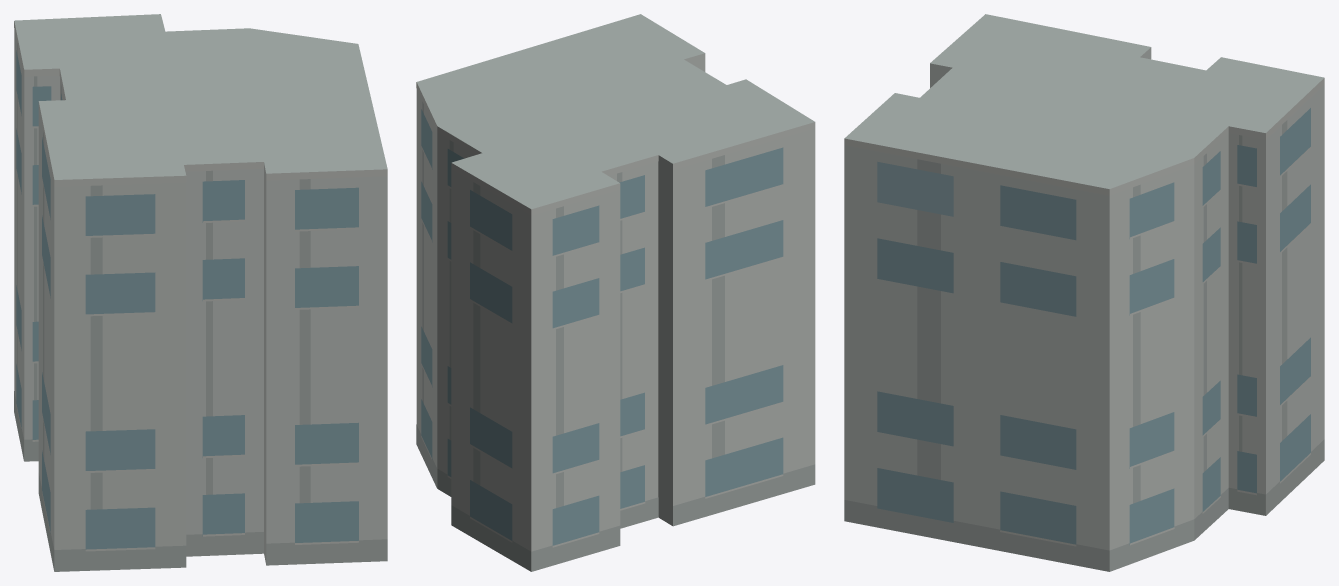
File: survey-upis-33003524.glb
3 views of the same model, side by side, from view 1: azimuth 30°, elevation 25°; view 2: azimuth 150°, elevation 25°; view 3: azimuth 270°, elevation 25° (orthographic). The views are drawn at different scales.
Parts seen in each view (by area): view 1: survey-upis-33003524.tmp; view 2: survey-upis-33003524.tmp; view 3: survey-upis-33003524.tmp.
Part boxes in pixels (box(x1,y1,x2,y2)): survey-upis-33003524.tmp: box(14, 14, 387, 571); survey-upis-33003524.tmp: box(416, 14, 815, 571); survey-upis-33003524.tmp: box(844, 14, 1324, 571).
Bounding box in the file's own units: 13.46 × 13.7 × 15.59.
